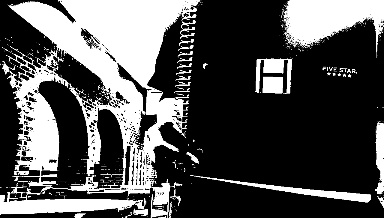H: (255, 58, 291, 94)
